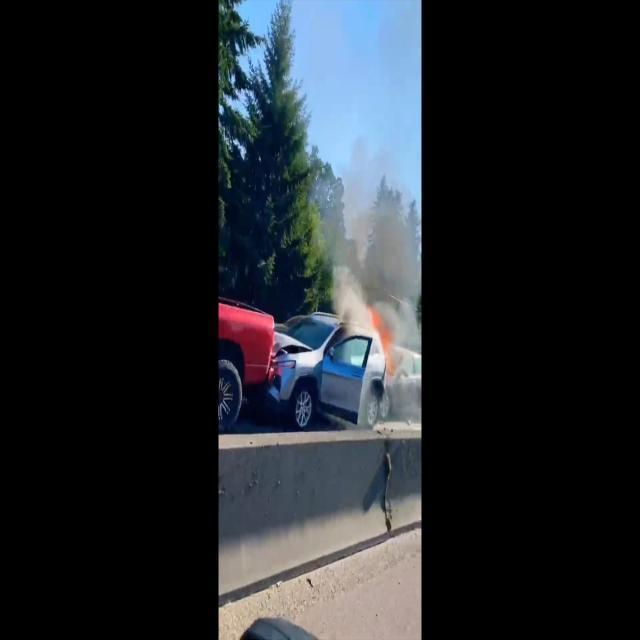fire: (367, 296, 403, 388)
